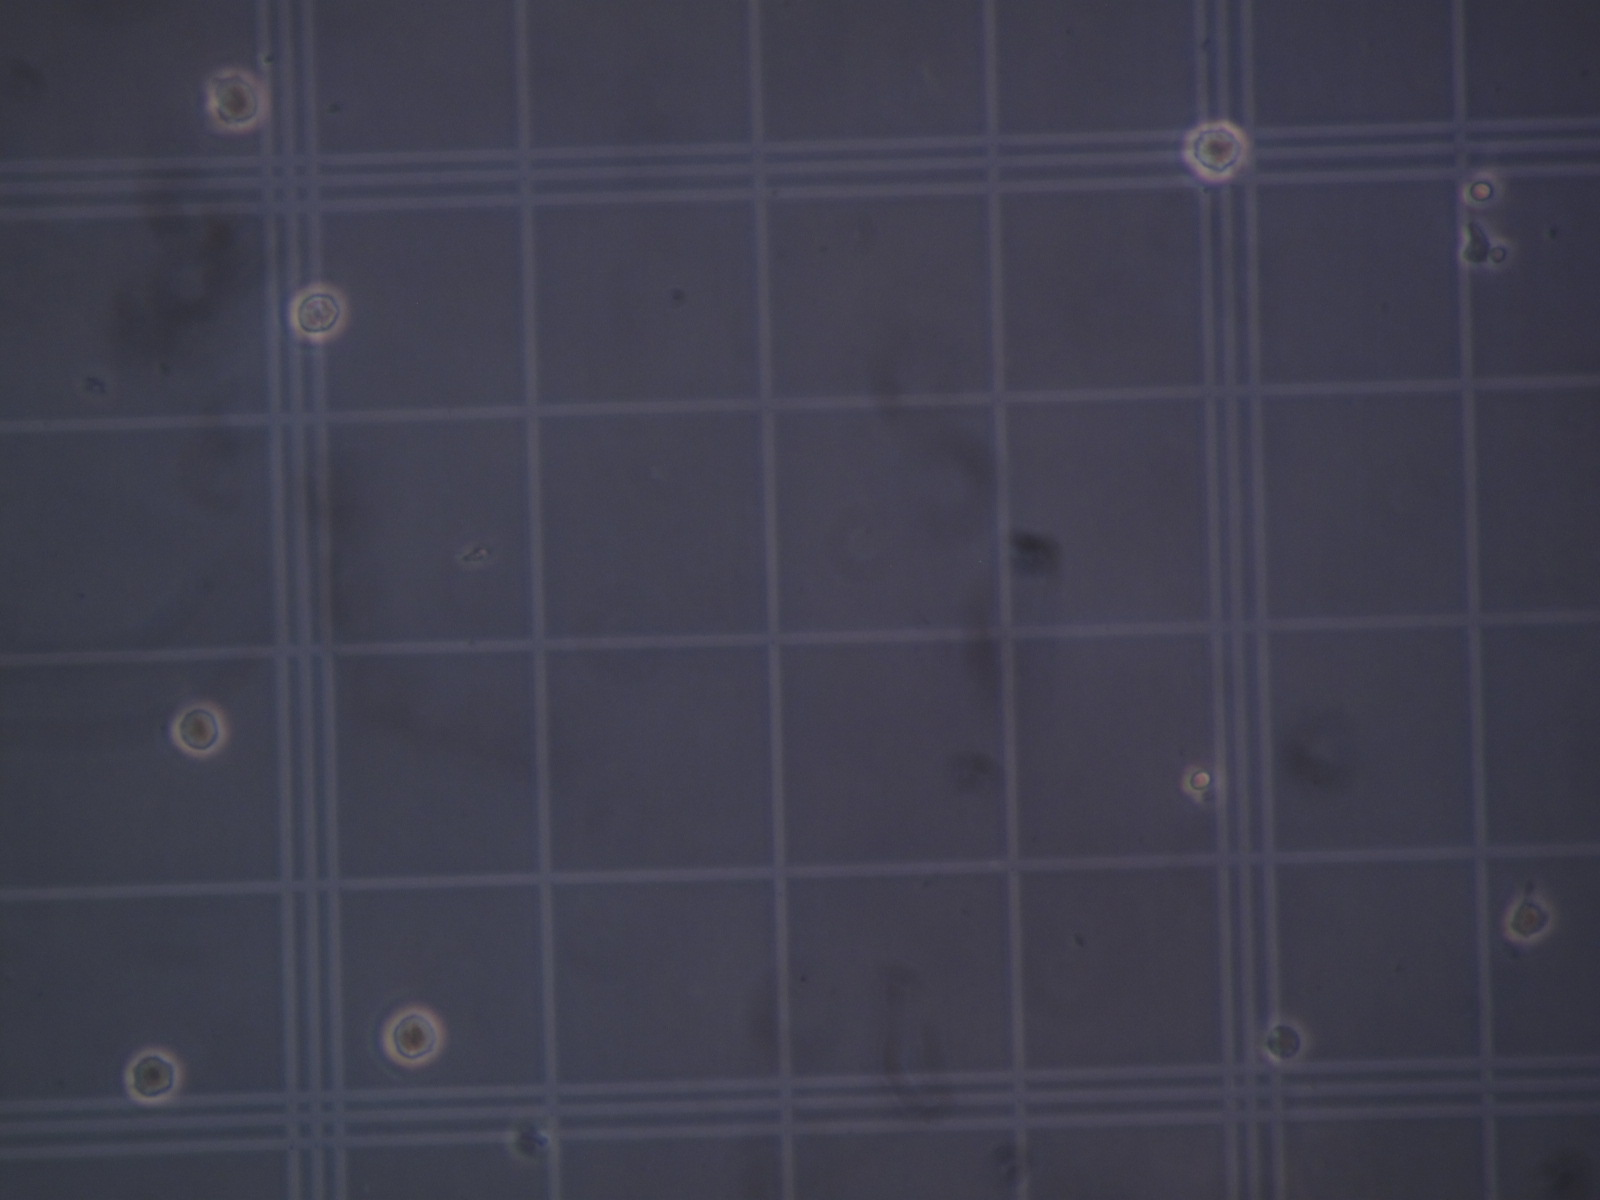hemo: (1183, 118, 1249, 183), (207, 68, 268, 134), (382, 1005, 443, 1068), (289, 282, 348, 342), (123, 1047, 181, 1104), (171, 701, 227, 758), (506, 1113, 557, 1165), (1504, 895, 1555, 944), (1262, 1017, 1308, 1066), (1488, 239, 1512, 270)
